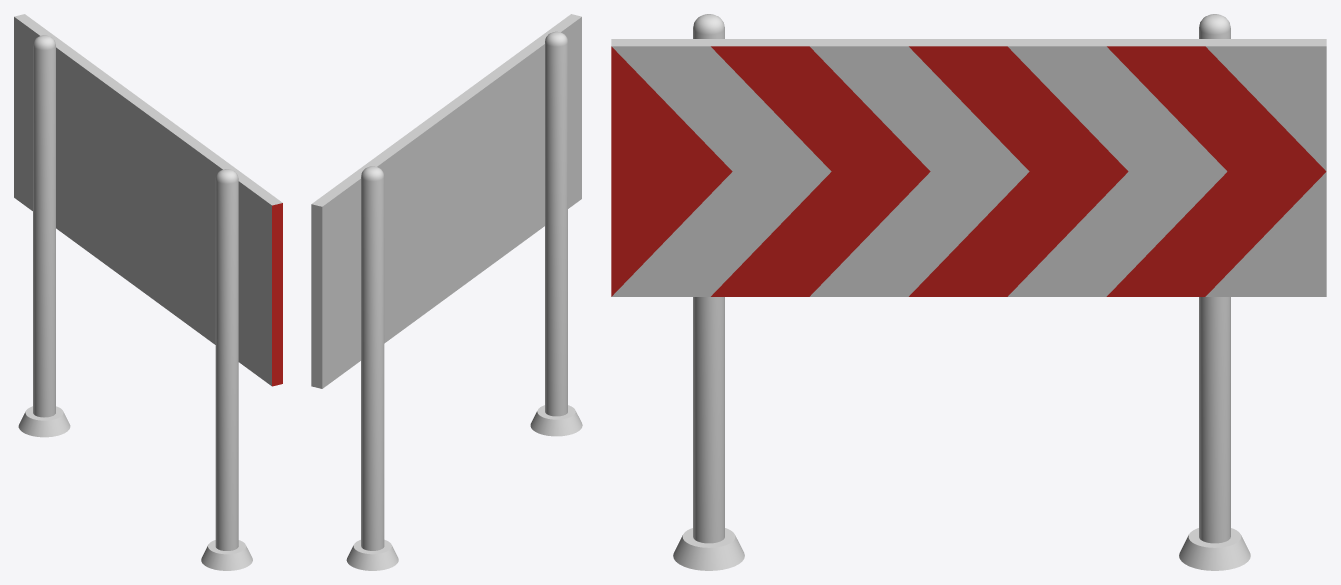
Rendered from Barrier2.fbx.
The picture shows the model from 3 angles, left to right: view 1: azimuth 30°, elevation 25°; view 2: azimuth 150°, elevation 25°; view 3: azimuth 270°, elevation 25°; orthographic projection. The views are drawn at different scales.
Parts seen in each view (by area): view 1: Sign.009; view 2: Sign.009; view 3: Sign.009.
Part boxes in pixels (x1,y1,x2,y2): Sign.009: (14, 14, 282, 570); Sign.009: (311, 14, 582, 570); Sign.009: (611, 14, 1326, 570).
Size of the model in its own units: 20.73 by 172 by 206.
